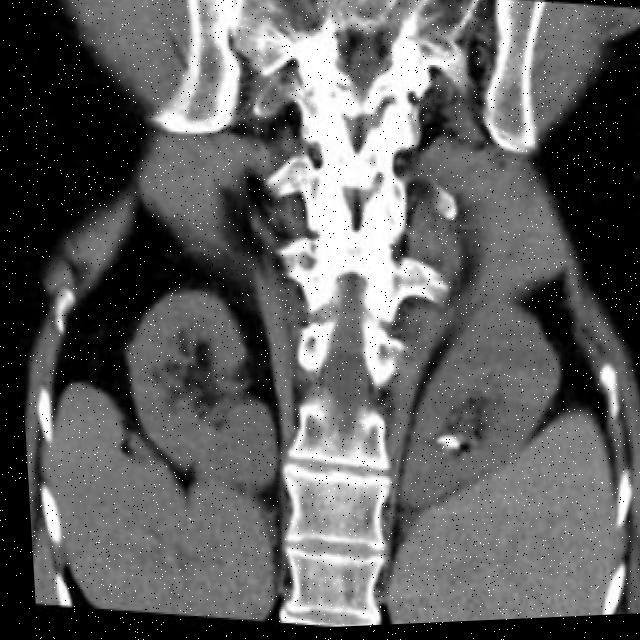Tas_Var: (429, 437, 462, 457)
